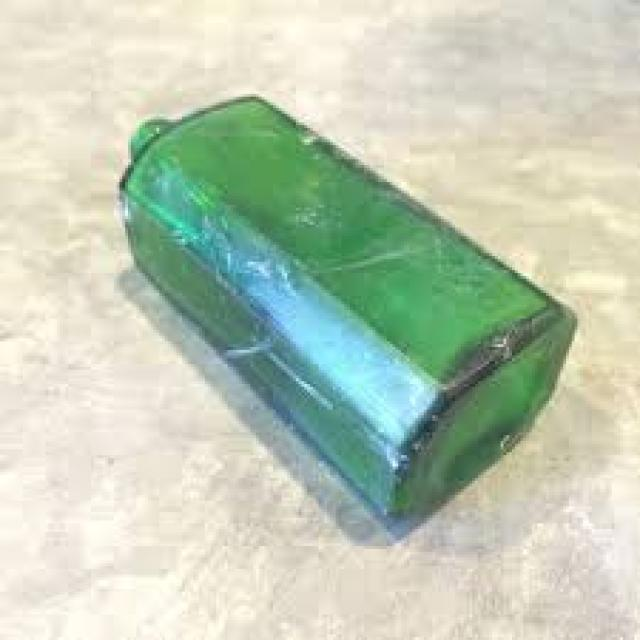glass: (114, 94, 575, 515)
